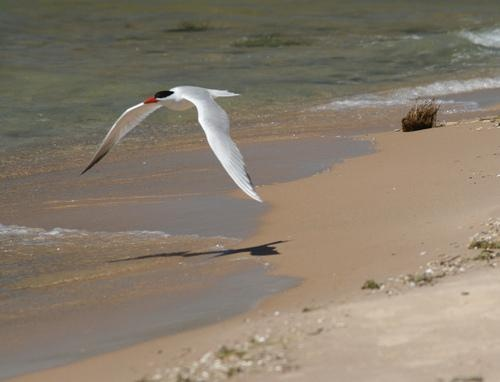bird: (57, 82, 264, 207)
